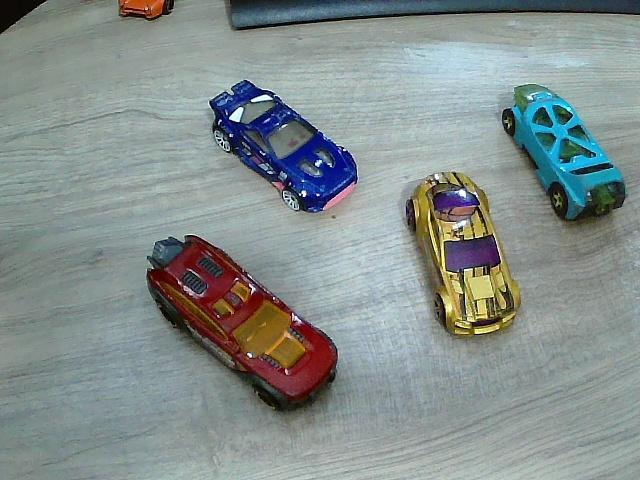Carro: (146, 236, 340, 413), (211, 81, 358, 214), (408, 173, 520, 338), (501, 85, 628, 219), (117, 0, 176, 20)
